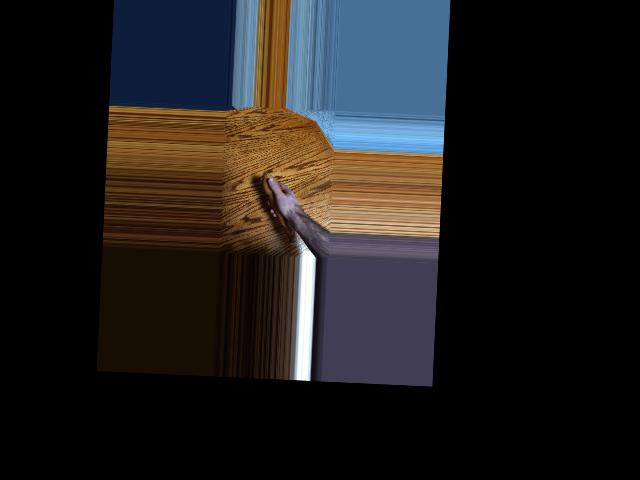sweet_potato: (257, 172, 301, 248)
